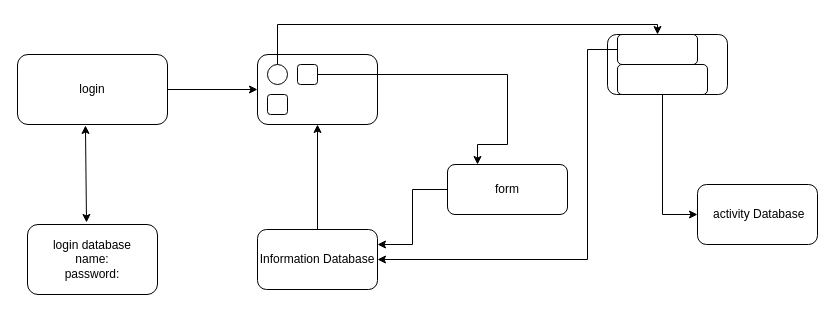
Some shapes in this 835 by 312 pixel diagram are drawn without their labels. The shapes that lost their labels are listed below. From the top down, each one's box as (x1, y1, x2, y2) in pixels, then its label:
(616, 34, 698, 64): info
(256, 54, 378, 124): home page
(616, 64, 708, 94): activity
